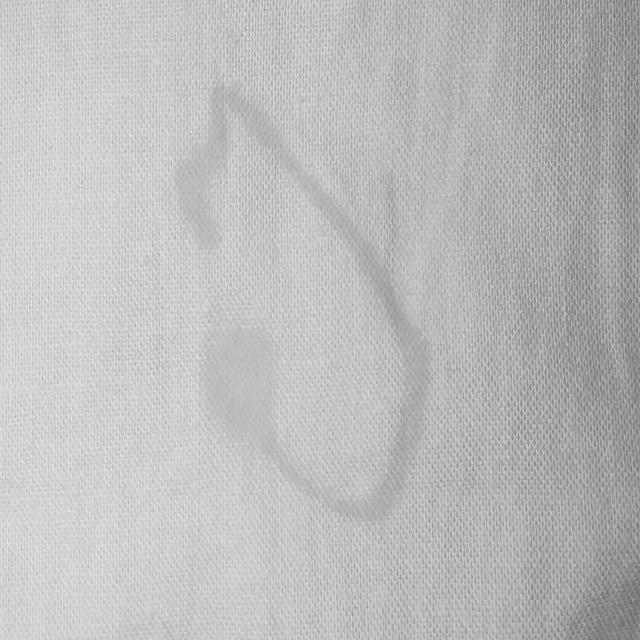Stain: (172, 85, 428, 525)
